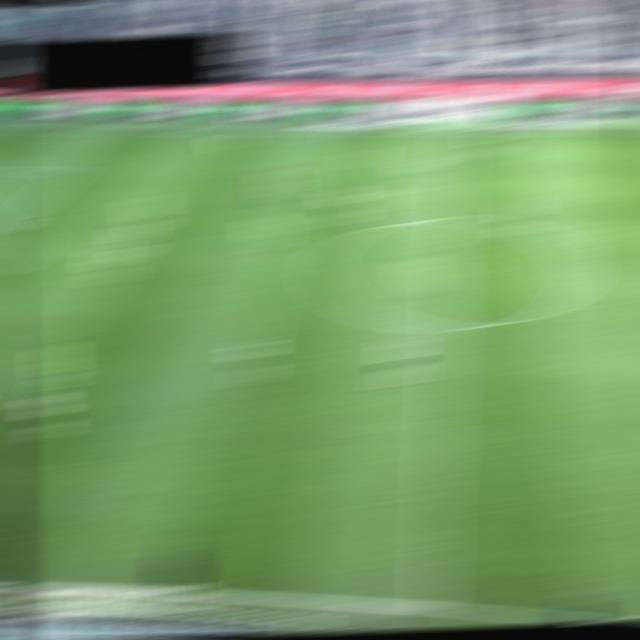bigarea_top_inner: (52, 166, 83, 176)
halfcircle_bottom: (430, 322, 461, 331)
halfcircle_top: (434, 214, 466, 223)
midline_bottom_intersection: (417, 601, 449, 613)
midline_top_intersection: (438, 126, 470, 135)
top_arc_area_intersection: (0, 216, 28, 224)
